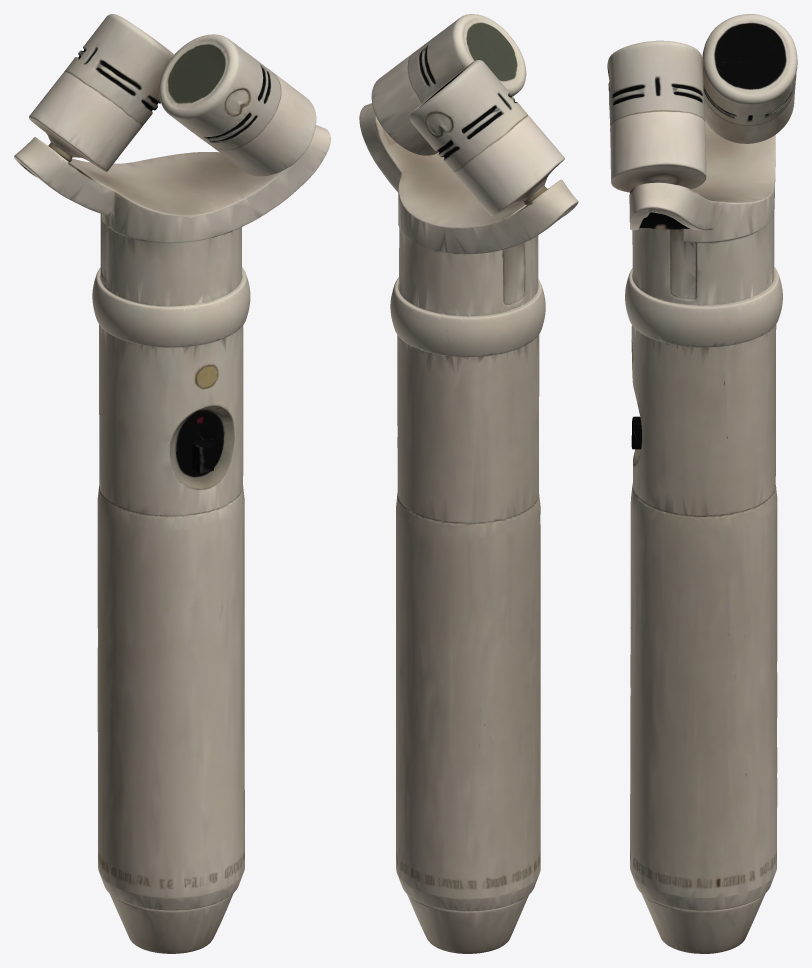
File: Rode NT4.glb
3 views of the same model, side by side, from view 1: azimuth 30°, elevation 25°; view 2: azimuth 150°, elevation 25°; view 3: azimuth 270°, elevation 25° (orthographic).
Parts seen in each view (by area): view 1: geometry_0; view 2: geometry_0; view 3: geometry_0.
Part boxes in pixels (x1,y1,x2,y2): geometry_0: [14, 14, 330, 953]; geometry_0: [359, 14, 578, 953]; geometry_0: [607, 14, 797, 953].
Size of the model in its own units: 0.0694 by 0.231 by 0.0438.
Materials: 1 (1 with a texture image).
